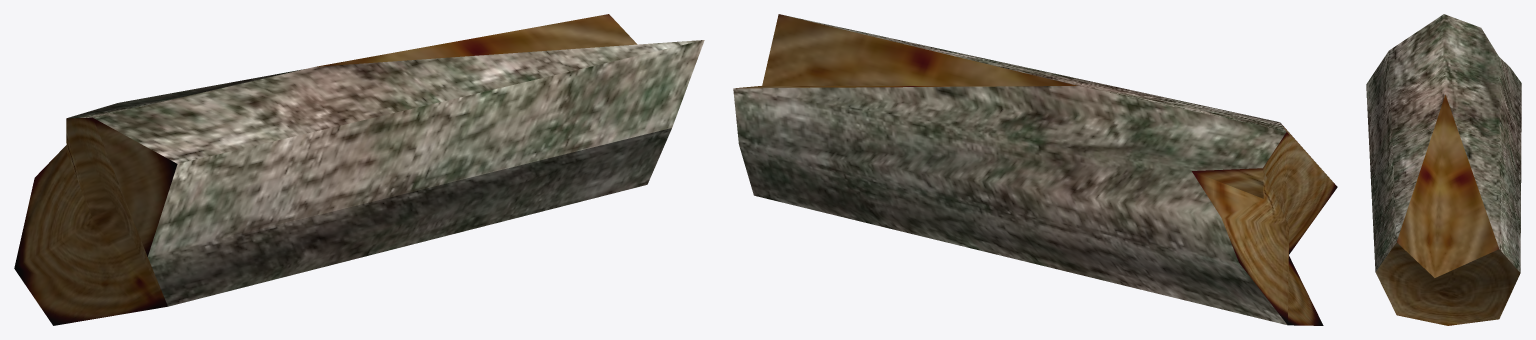
The model's file is gen_log02.fbx.
3 renders of one model, left to right at view 1: azimuth 30°, elevation 25°; view 2: azimuth 150°, elevation 25°; view 3: azimuth 270°, elevation 25°, orthographic. The views are drawn at different scales.
Parts seen in each view (by area): view 1: lod_high; view 2: lod_high; view 3: lod_high.
Boxes of the visible parts, bbox=[...] form: lod_high: bbox=[14, 14, 704, 325]; lod_high: bbox=[733, 14, 1337, 325]; lod_high: bbox=[1366, 14, 1521, 325].
Size of the model in its own units: 652 by 200 by 200.
1 material, 1 textured.
